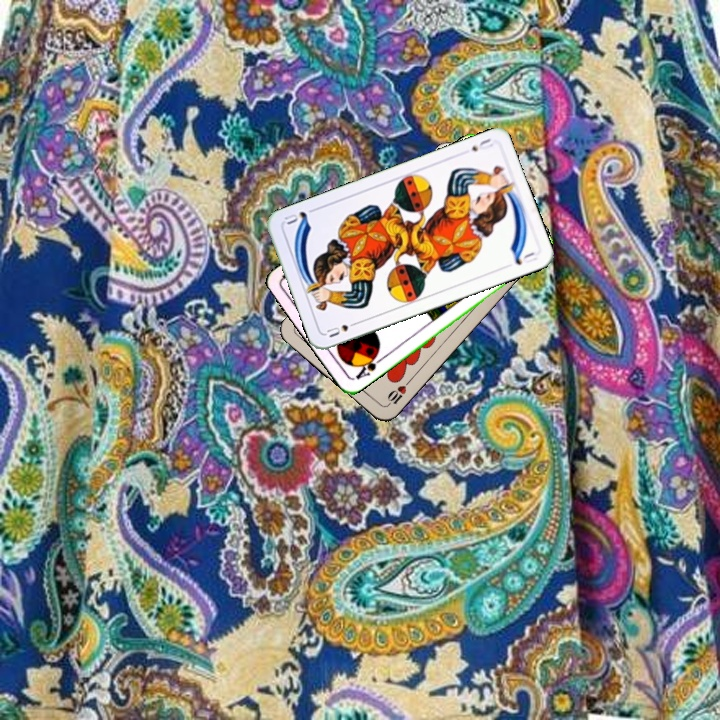H10: (382, 376, 413, 409)
SA: (351, 348, 386, 382)
SU: (322, 317, 361, 340), (467, 134, 496, 154)
